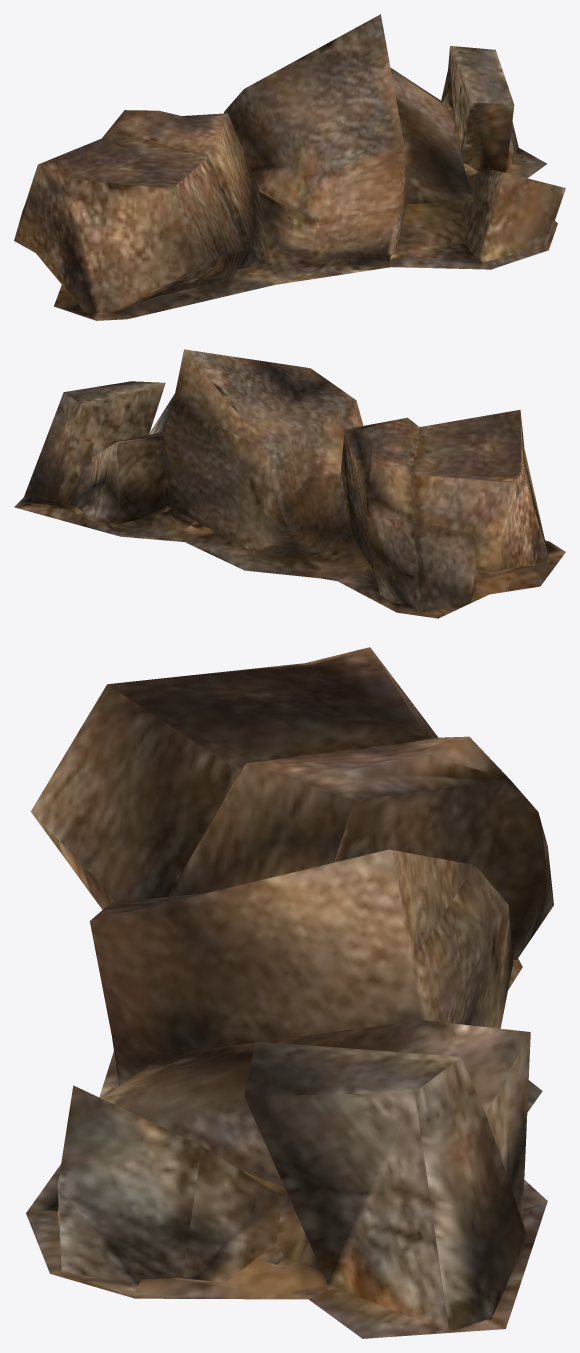
File: boulder_b_lod1.glb
3 renders of one model, top to bottom at view 1: azimuth 30°, elevation 25°; view 2: azimuth 150°, elevation 25°; view 3: azimuth 270°, elevation 25°, orthographic. The views are drawn at different scales.
Parts seen in each view (by area): view 1: boulder_02; view 2: boulder_02; view 3: boulder_02.
Boxes of the visible parts, x1=… form: boulder_02: x1=14, y1=14, x2=565, y2=320; boulder_02: x1=14, y1=349, x2=565, y2=618; boulder_02: x1=26, y1=647, x2=553, y2=1338.
Bounding box in the file's own units: 2.4 × 0.8562 × 1.14.
1 material, 1 textured.
